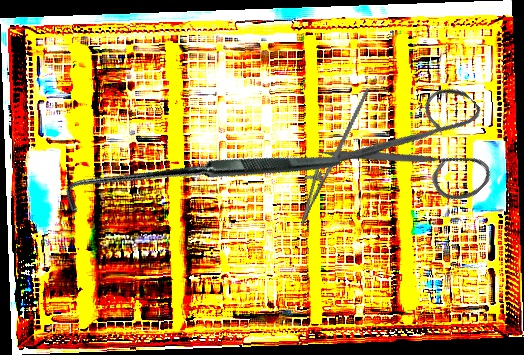Hook Surgical: (58, 42, 343, 322)
Iris Scissors: (312, 49, 522, 258)
Needle Holder: (288, 78, 371, 232)
